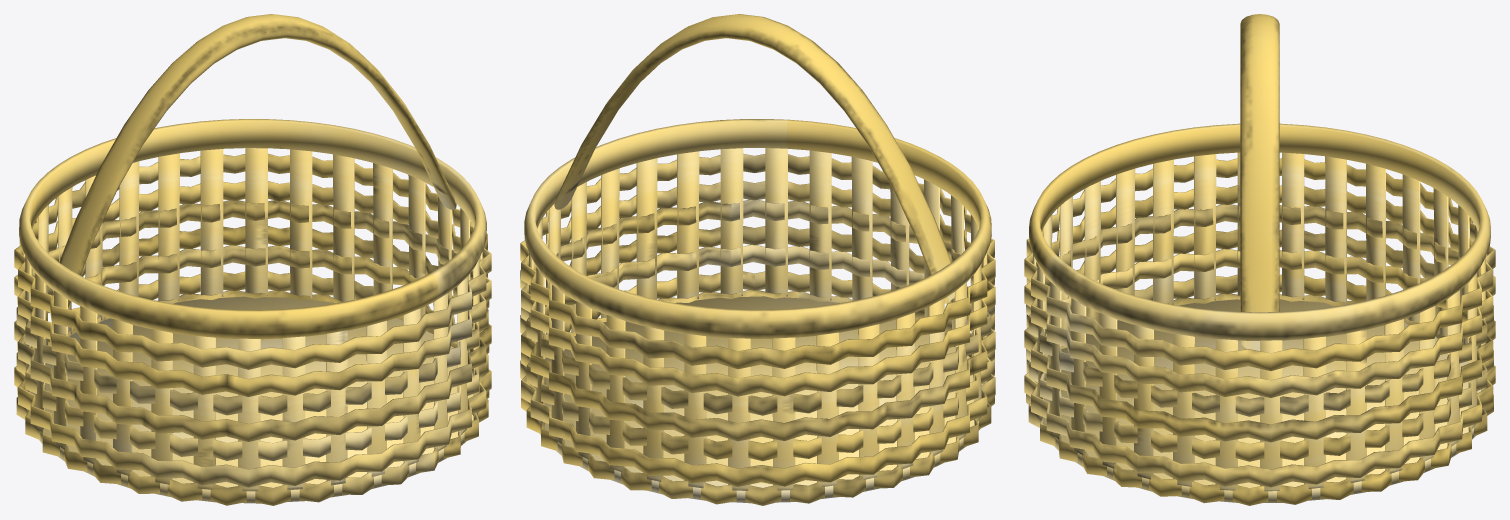
The model's file is Cesta.fbx.
The picture shows the model from 3 angles, left to right: view 1: azimuth 30°, elevation 25°; view 2: azimuth 150°, elevation 25°; view 3: azimuth 270°, elevation 25°; orthographic projection.
Visible parts, largest first — view 1: Cesta; view 2: Cesta; view 3: Cesta.
Part boxes in pixels (x1=…): Cesta: x1=14, y1=14, x2=491, y2=505; Cesta: x1=520, y1=14, x2=995, y2=505; Cesta: x1=1024, y1=14, x2=1495, y2=505.
Bounding box in the file's own units: 99.49 × 89.18 × 99.49.
1 material, 1 textured.
